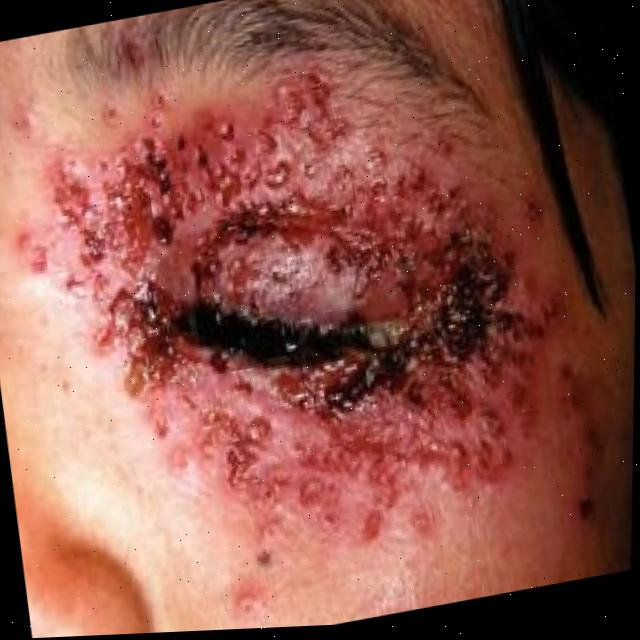Eczema: (34, 22, 575, 575)
